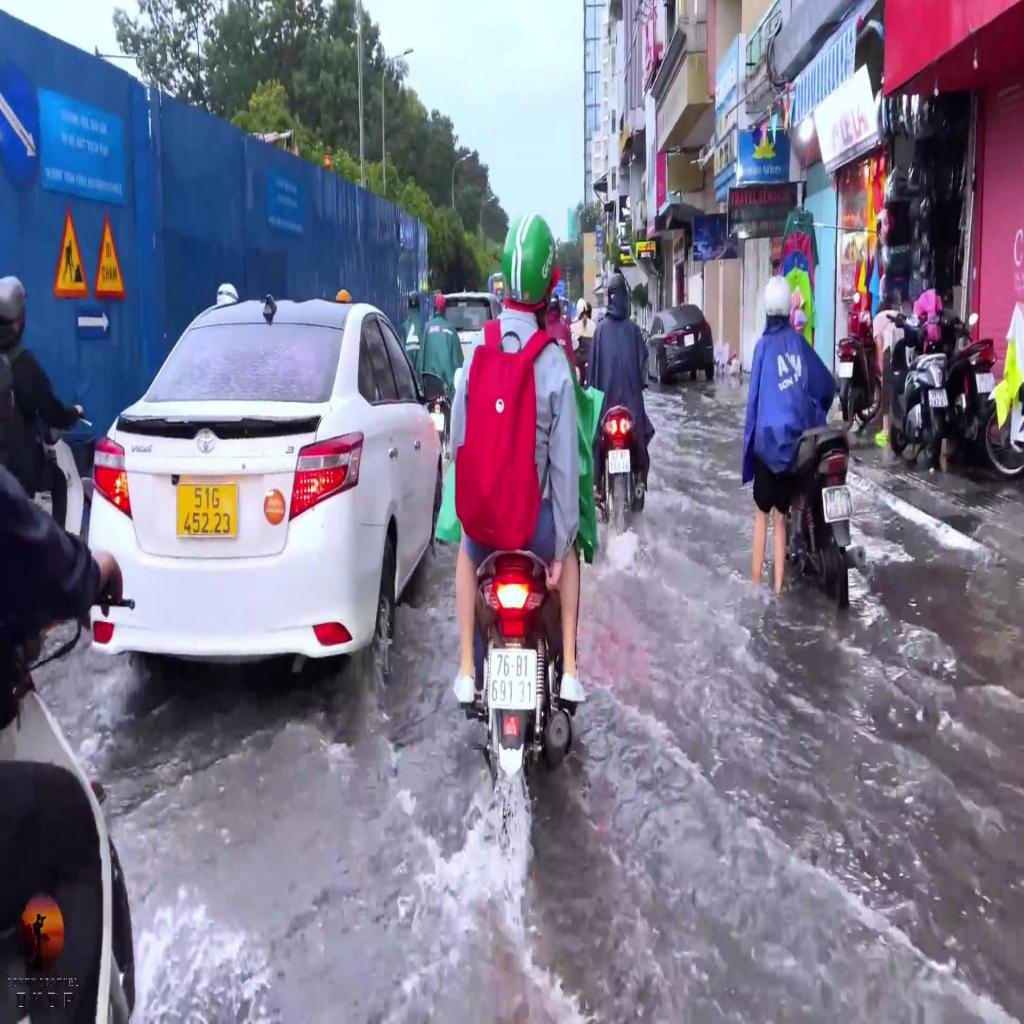cong_truong: (54, 208, 89, 296)
di_cham: (94, 213, 126, 299)
duong_mot_chieu: (76, 302, 110, 338)
huong_phai_di_vuot_chuong_ngai_vat_phai: (0, 62, 39, 190)
